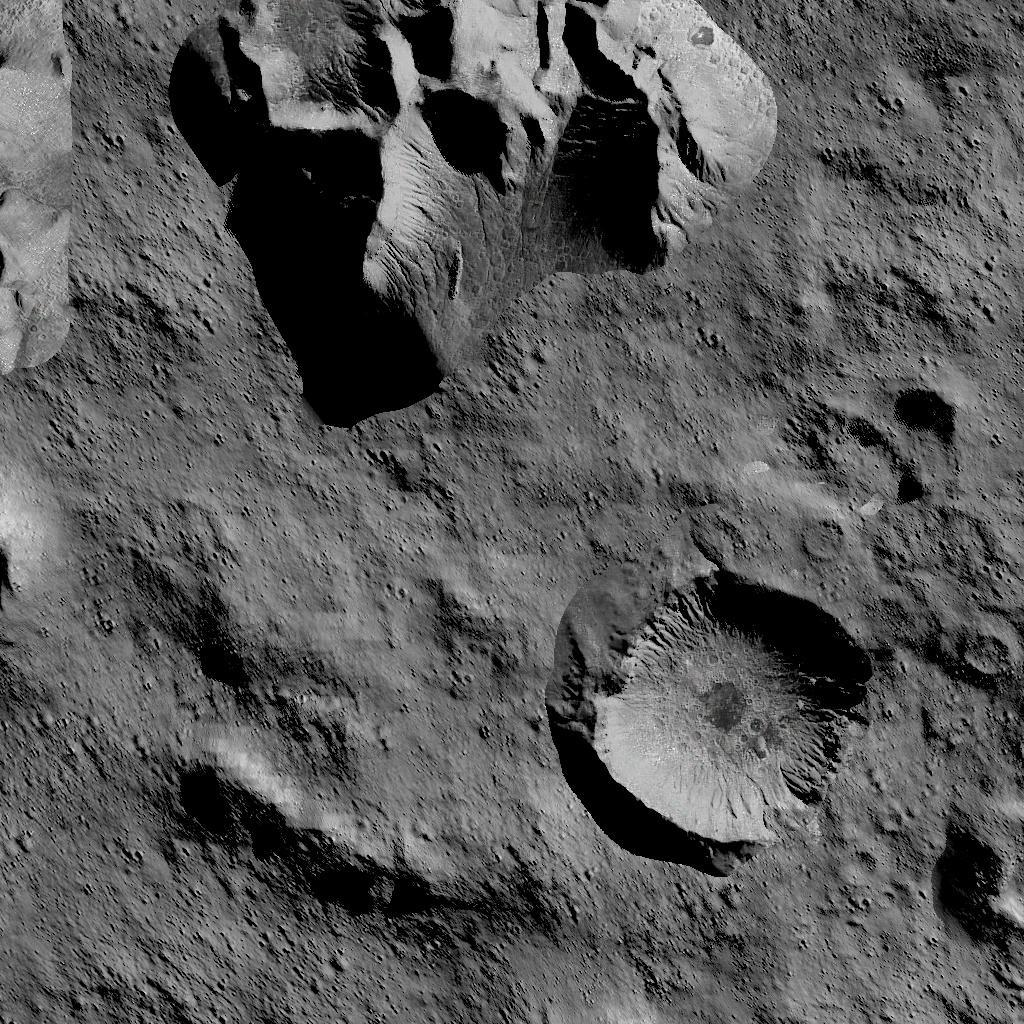Boulders: (176, 0, 775, 425), (170, 748, 570, 938), (0, 0, 78, 378)
Crater: (588, 562, 870, 852)
Plan surface: (793, 0, 1024, 385), (0, 668, 158, 1024), (586, 865, 920, 1024)
